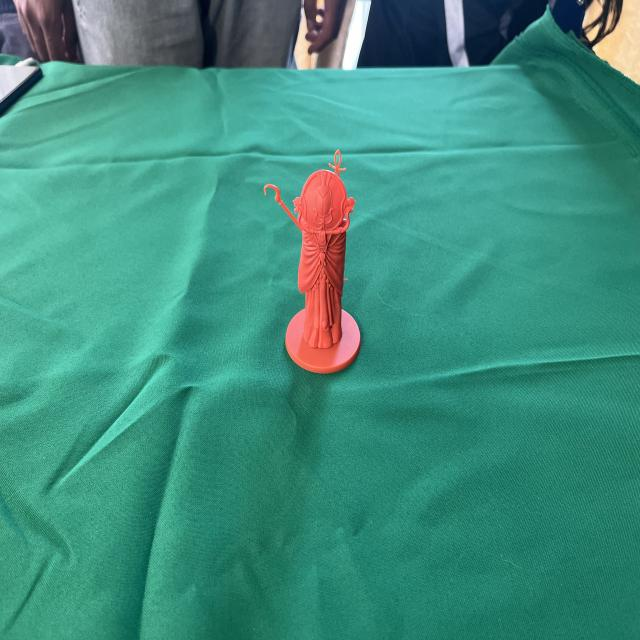amon: (261, 138, 365, 379)
